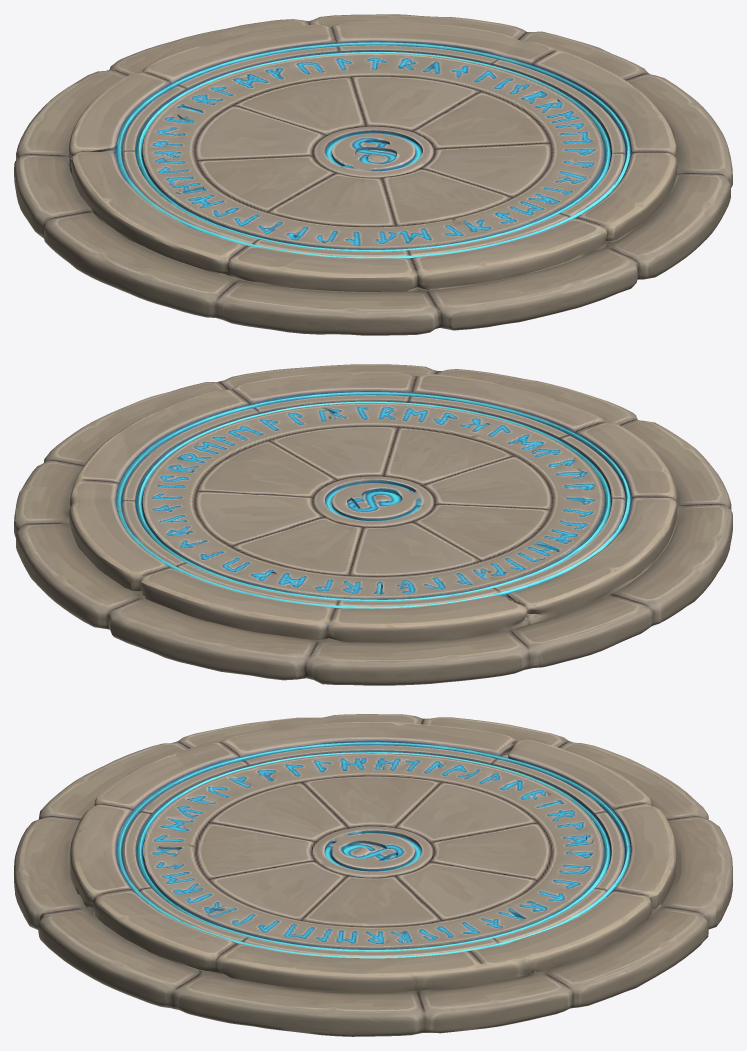
Rendered from shrine_dais_ring.glb.
3 renders of one model, top to bottom at view 1: azimuth 30°, elevation 25°; view 2: azimuth 150°, elevation 25°; view 3: azimuth 270°, elevation 25°, orthographic.
Visible parts, largest first — view 1: Mesh_0; view 2: Mesh_0; view 3: Mesh_0.
Part boxes in pixels (x1=…): Mesh_0: x1=14, y1=14, x2=732, y2=335; Mesh_0: x1=14, y1=364, x2=732, y2=685; Mesh_0: x1=14, y1=714, x2=732, y2=1036.
Bounding box in the file's own units: 5 × 0.3 × 5.
Materials: 1 (1 with a texture image).
